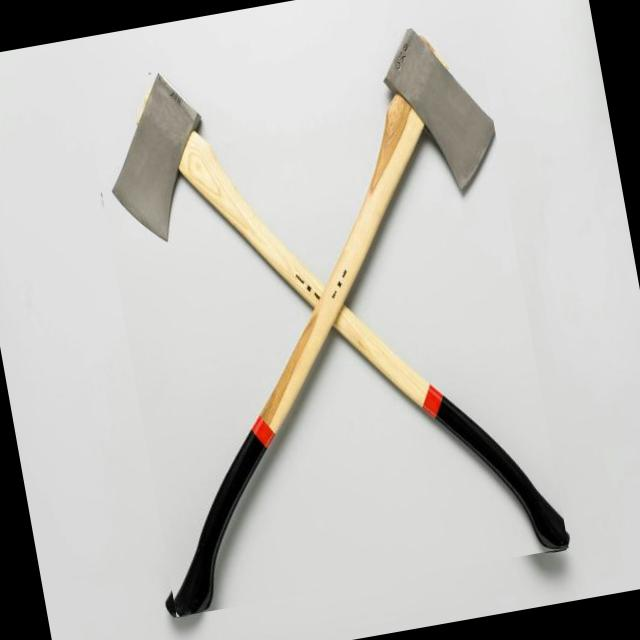Axe: (174, 28, 494, 615), (166, 314, 321, 614), (318, 33, 484, 303)
